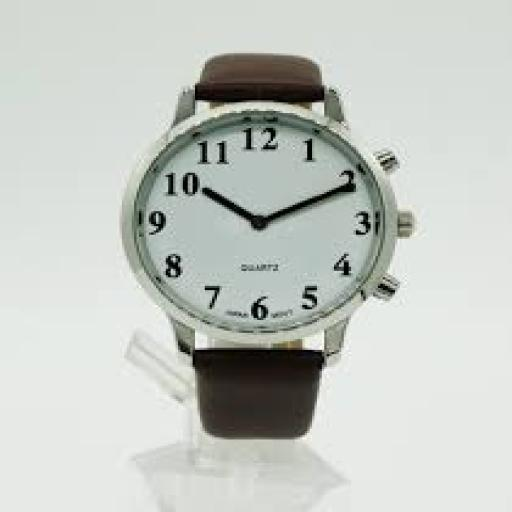KolSaati: (102, 26, 431, 464)
